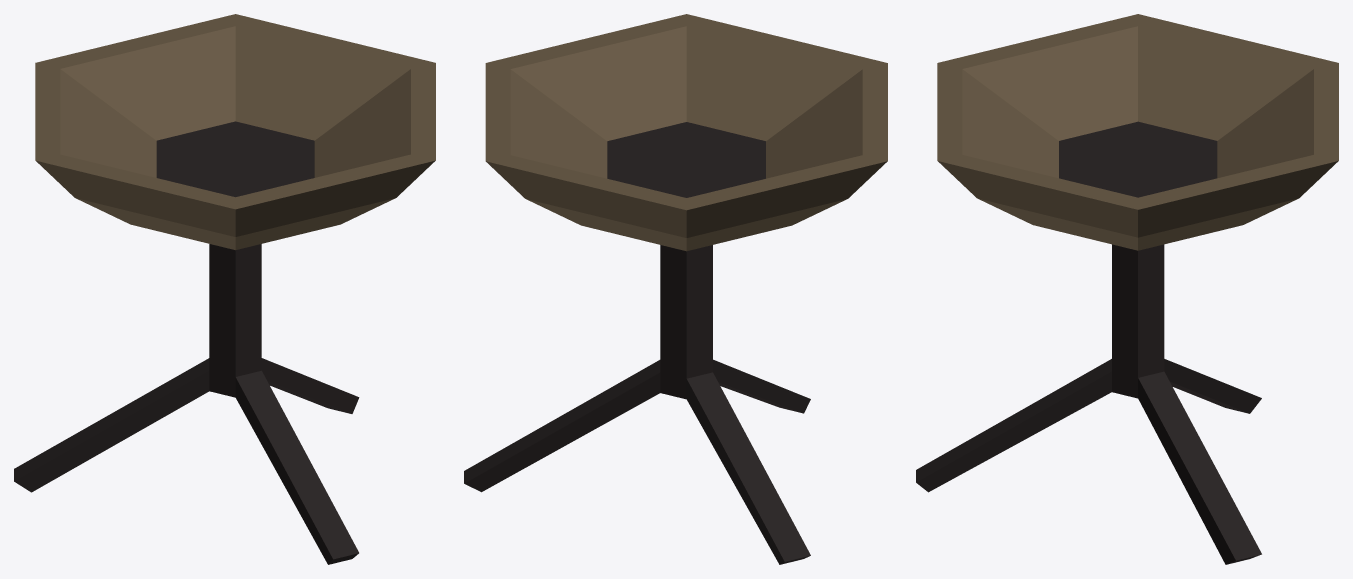
File: egypt_torch.fbx
3 renders of one model, left to right at view 1: azimuth 30°, elevation 25°; view 2: azimuth 150°, elevation 25°; view 3: azimuth 270°, elevation 25°, orthographic.
Visible parts, largest first — view 1: egypt_torch; view 2: egypt_torch; view 3: egypt_torch.
Boxes of the visible parts, x1=… form: egypt_torch: x1=14, y1=14, x2=435, y2=564; egypt_torch: x1=464, y1=14, x2=887, y2=564; egypt_torch: x1=916, y1=14, x2=1338, y2=564.
Bounding box in the file's own units: 2.37 × 2.11 × 2.16.
